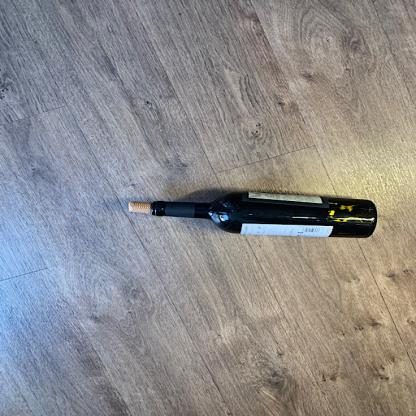trash: (149, 191, 382, 247)
